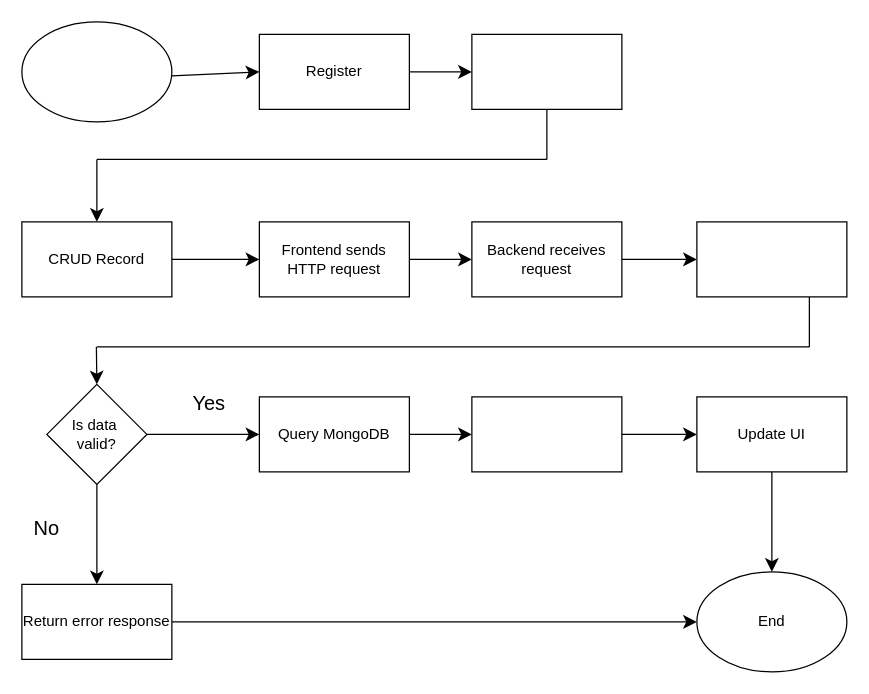
This 869x694 diagram has some shape labels left out. The centre of each missing label's shape, as x and y in pixels:
"Login" belongs at pixel 546 71.
"Return response (JSON)" belongs at pixel 546 434.
"start" belongs at pixel 96 71.
"Validate request data" belongs at pixel 771 259.
